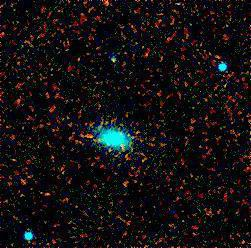star: (66, 45, 96, 75)
